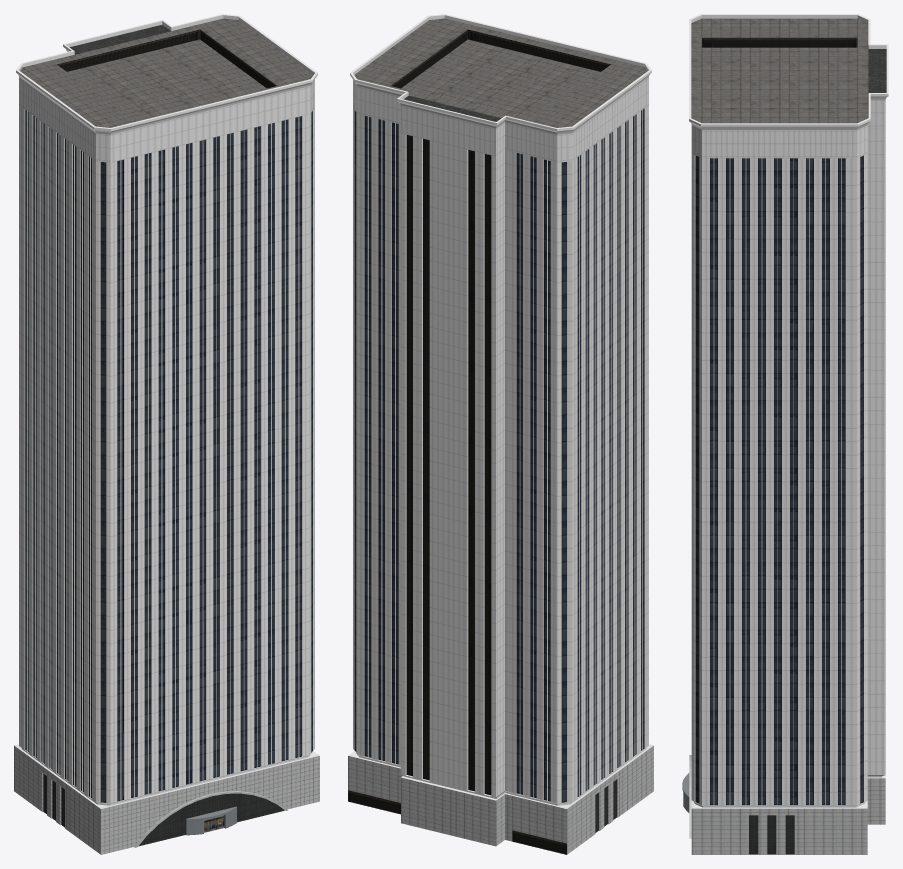
3 views of the same model, side by side, from view 1: azimuth 30°, elevation 25°; view 2: azimuth 150°, elevation 25°; view 3: azimuth 270°, elevation 25° (orthographic).
Visible parts, largest first — view 1: torrepicasso; view 2: torrepicasso; view 3: torrepicasso.
Part boxes in pixels (left/top/right/bottom): torrepicasso: left=14, top=14, right=319, bottom=854; torrepicasso: left=348, top=14, right=653, bottom=854; torrepicasso: left=682, top=14, right=888, bottom=854.
Bounding box in the file's own units: 5115 × 15821 × 4043.
Materials: 1 (1 with a texture image).
